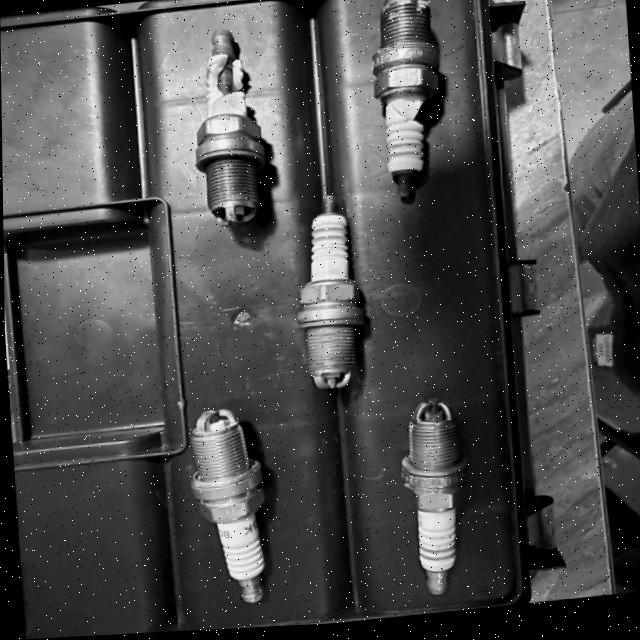damaged_spark-plug: (366, 0, 449, 212), (188, 30, 265, 227)
spark-plug: (173, 391, 280, 617), (388, 401, 470, 610), (298, 194, 361, 398)
